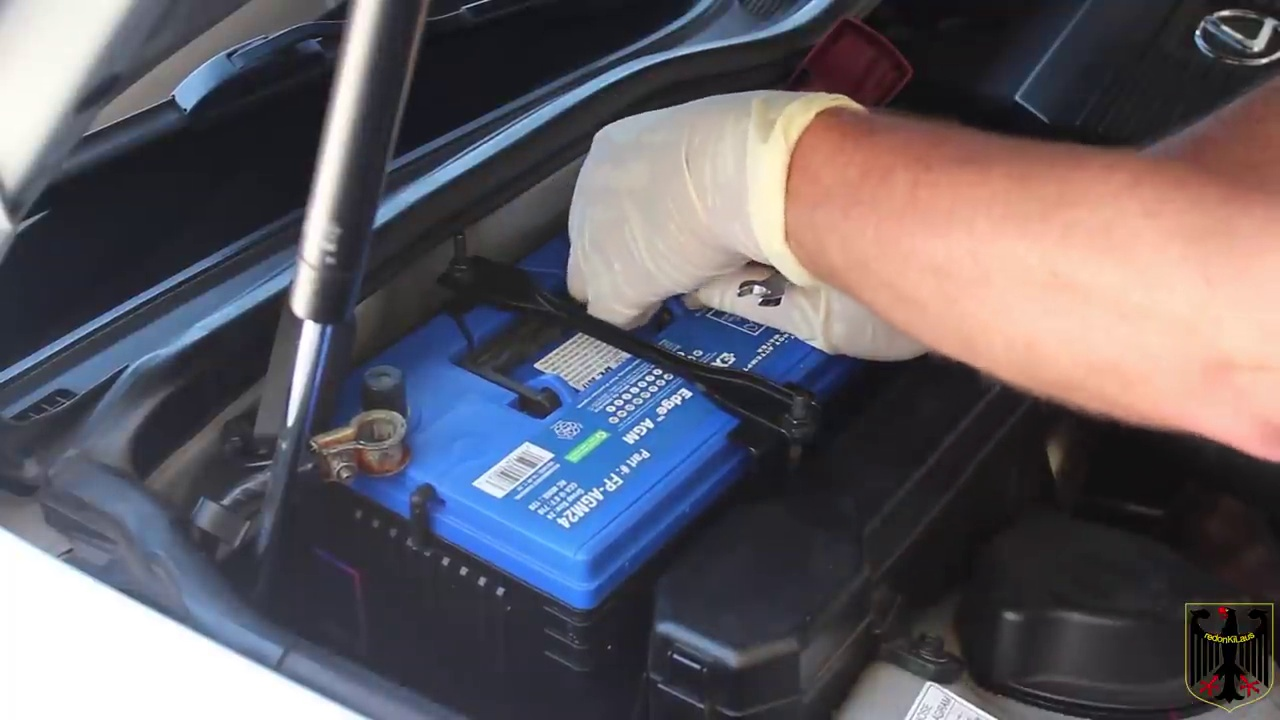battery: (312, 217, 838, 562)
